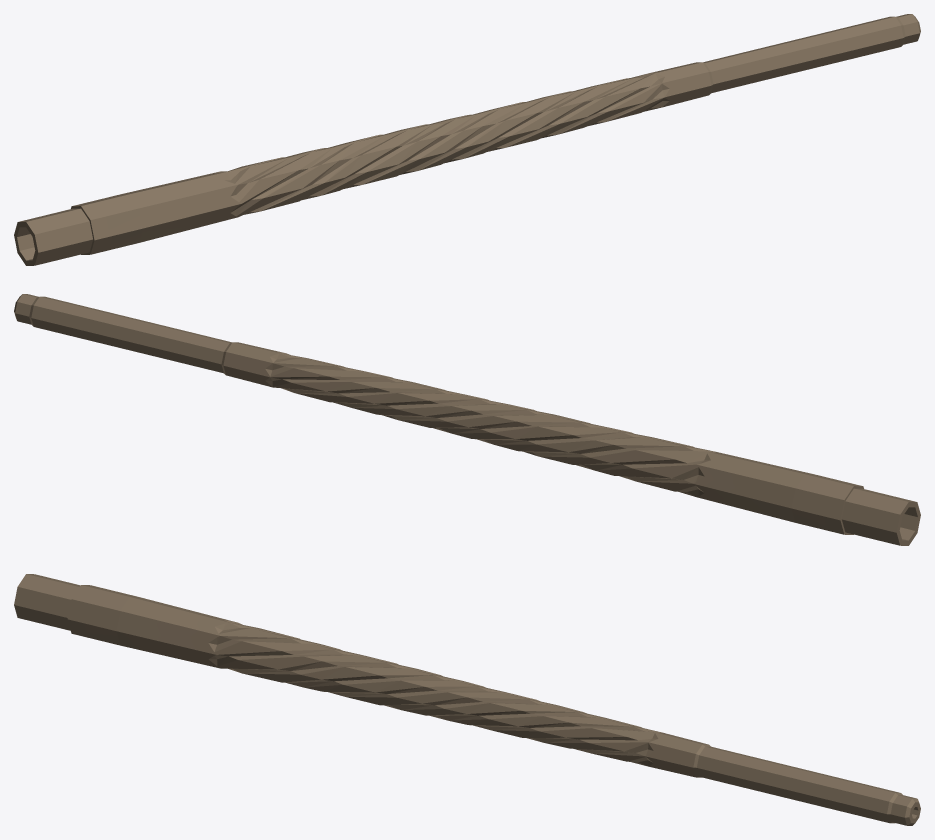
Rendered from c14_timberwolf_barrel.glb.
3 renders of one model, top to bottom at view 1: azimuth 30°, elevation 25°; view 2: azimuth 150°, elevation 25°; view 3: azimuth 330°, elevation 25°, orthographic.
Parts seen in each view (by area): view 1: c14 barrel_4; view 2: c14 barrel_4; view 3: c14 barrel_4.
Boxes of the visible parts, x1=… form: c14 barrel_4: x1=14, y1=14, x2=920, y2=265; c14 barrel_4: x1=14, y1=294, x2=920, y2=545; c14 barrel_4: x1=14, y1=574, x2=920, y2=825.
Size of the model in its own units: 6.85 by 0.36 by 0.36.
